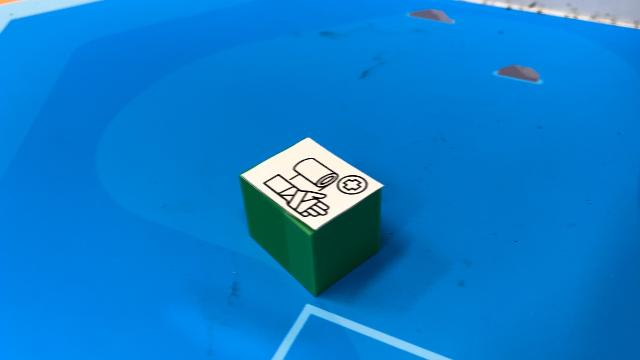bandage: (238, 137, 384, 297)
